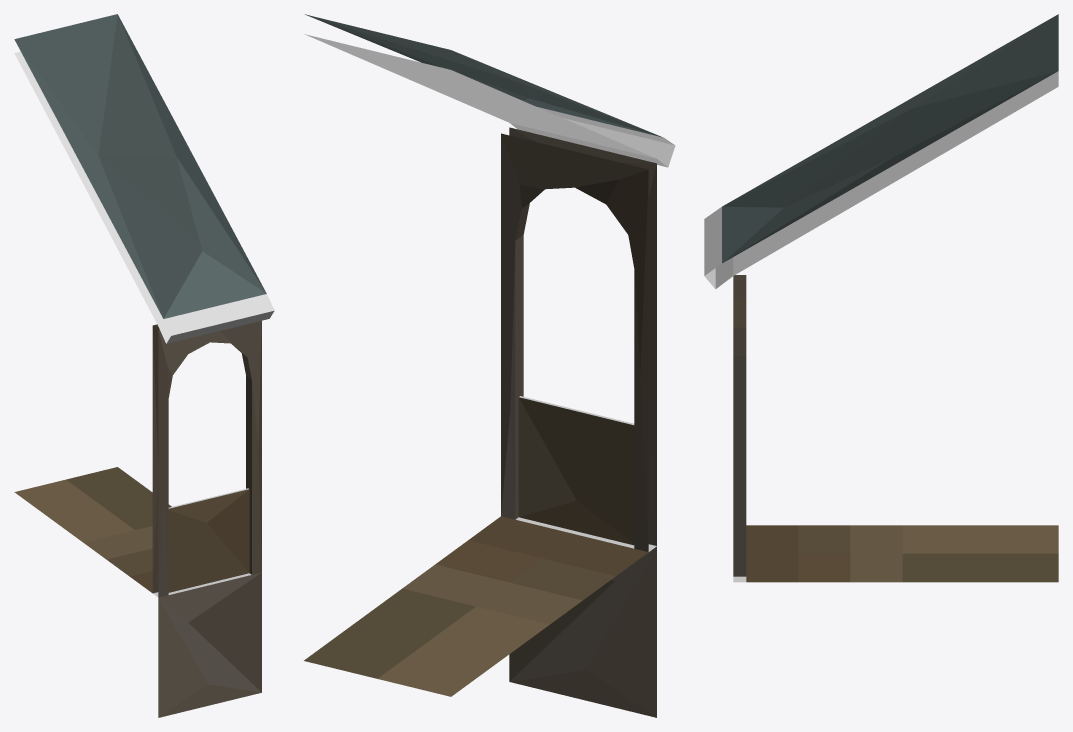
Rendered from CentrePieceDividedSide.fbx.
3 renders of one model, left to right at view 1: azimuth 30°, elevation 25°; view 2: azimuth 150°, elevation 25°; view 3: azimuth 270°, elevation 25°, orthographic. The views are drawn at different scales.
Parts seen in each view (by area): view 1: Addition_A-Side.003, Addition_A-Side.001, Addition_A-Side.004, Addition_A-Side.007, Addition_A-Side.002, Addition_A-Side.012, Addition_A-Side.005, Addition_A-Side.010, Addition_A-Side.008, Addition_A-Side.006; view 2: Addition_A-Side.004, Addition_A-Side.010, Addition_A-Side.001, Addition_A-Side.009, Addition_A-Side.012, Addition_A-Side.003, Addition_A-Side.007, Addition_A-Side.008, Addition_A-Side.006, Addition_A-Side.013, Addition_A-Side, Addition_A-Side.005; view 3: Addition_A-Side.003, Addition_A-Side.004, Addition_A-Side.012, Addition_A-Side.008, Addition_A-Side.005.
Boxes of the visible parts, x1,y1,x2,y2 form: Addition_A-Side.003: (14, 14, 266, 318); Addition_A-Side.001: (158, 572, 261, 717); Addition_A-Side.004: (14, 467, 171, 592); Addition_A-Side.007: (158, 320, 261, 597); Addition_A-Side.002: (168, 489, 249, 592); Addition_A-Side.012: (14, 51, 165, 326); Addition_A-Side.005: (163, 294, 274, 335); Addition_A-Side.010: (152, 324, 159, 593); Addition_A-Side.008: (231, 343, 251, 574); Addition_A-Side.006: (166, 310, 274, 343); Addition_A-Side.004: (304, 516, 648, 696); Addition_A-Side.010: (501, 133, 648, 551); Addition_A-Side.001: (509, 546, 656, 717); Addition_A-Side.009: (518, 397, 634, 545); Addition_A-Side.012: (304, 34, 655, 158); Addition_A-Side.003: (305, 14, 662, 137); Addition_A-Side.007: (509, 127, 656, 545); Addition_A-Side.008: (515, 189, 544, 519); Addition_A-Side.006: (563, 118, 675, 167); Addition_A-Side.013: (510, 123, 667, 167); Addition_A-Side: (514, 276, 656, 677); Addition_A-Side.005: (537, 107, 674, 145); Addition_A-Side.003: (722, 14, 1058, 263); Addition_A-Side.004: (746, 525, 1058, 582); Addition_A-Side.012: (733, 71, 1058, 275); Addition_A-Side.008: (733, 275, 746, 576); Addition_A-Side.005: (704, 207, 721, 275).
Size of the model in its own units: 129 by 682 by 338.
